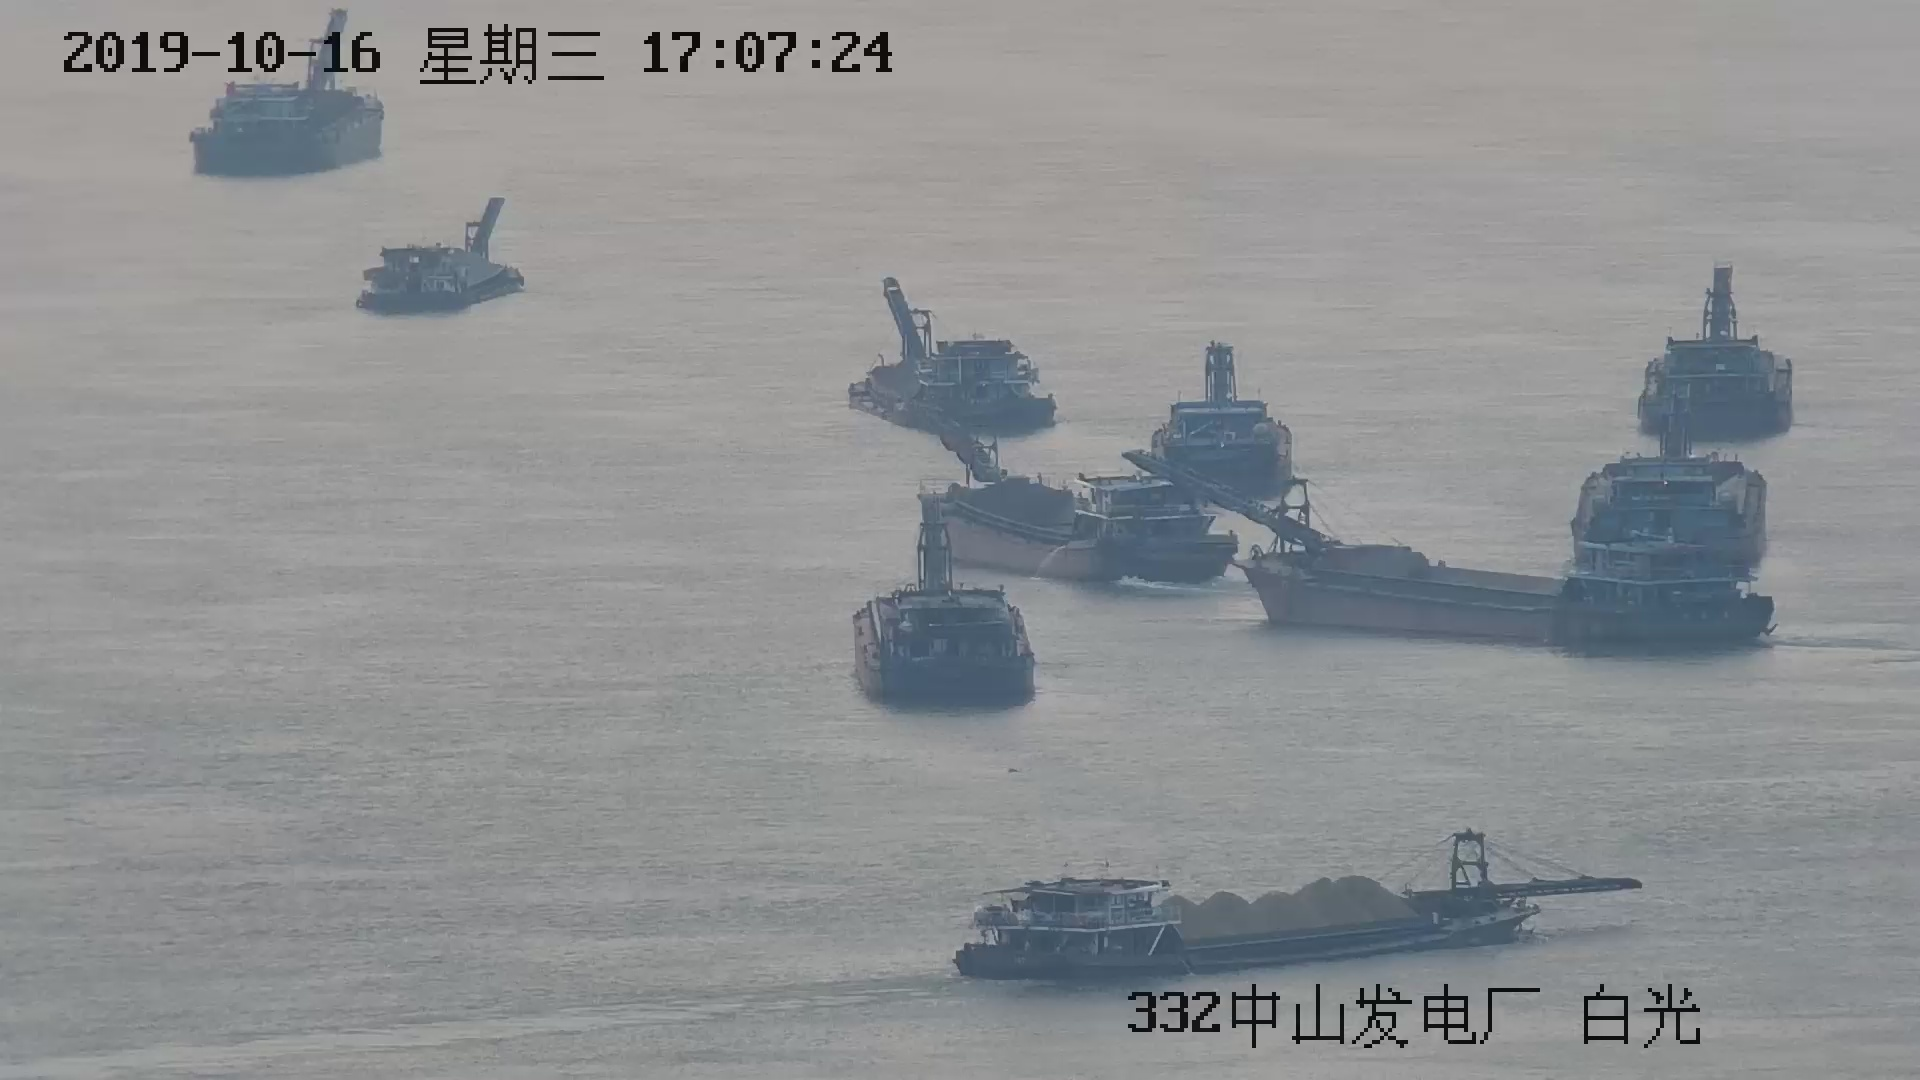ship: (938, 833, 1640, 978), (1236, 520, 1782, 657), (924, 438, 1230, 591), (851, 496, 1047, 705), (193, 5, 385, 175), (1563, 426, 1766, 582), (858, 280, 1054, 433), (1636, 265, 1796, 450), (1130, 340, 1298, 493), (357, 200, 524, 310)
